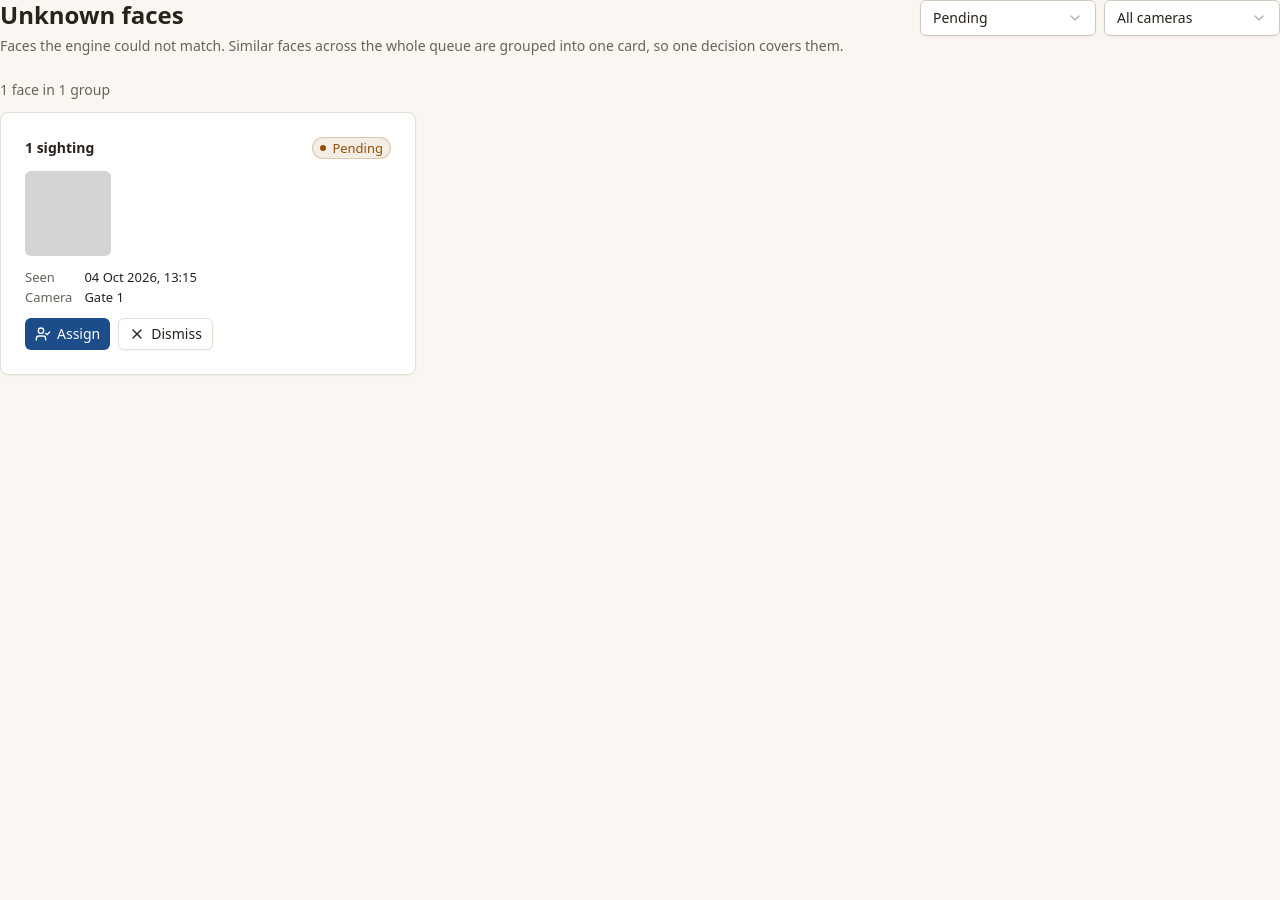
Test: Unknown faces screen (§13 screen 9, FR-27, Q58) › shows a consent error under the gallery option and keeps the dialog open
Click the button "Assign". click: (68, 334)
box: 25,318 -> 110,350
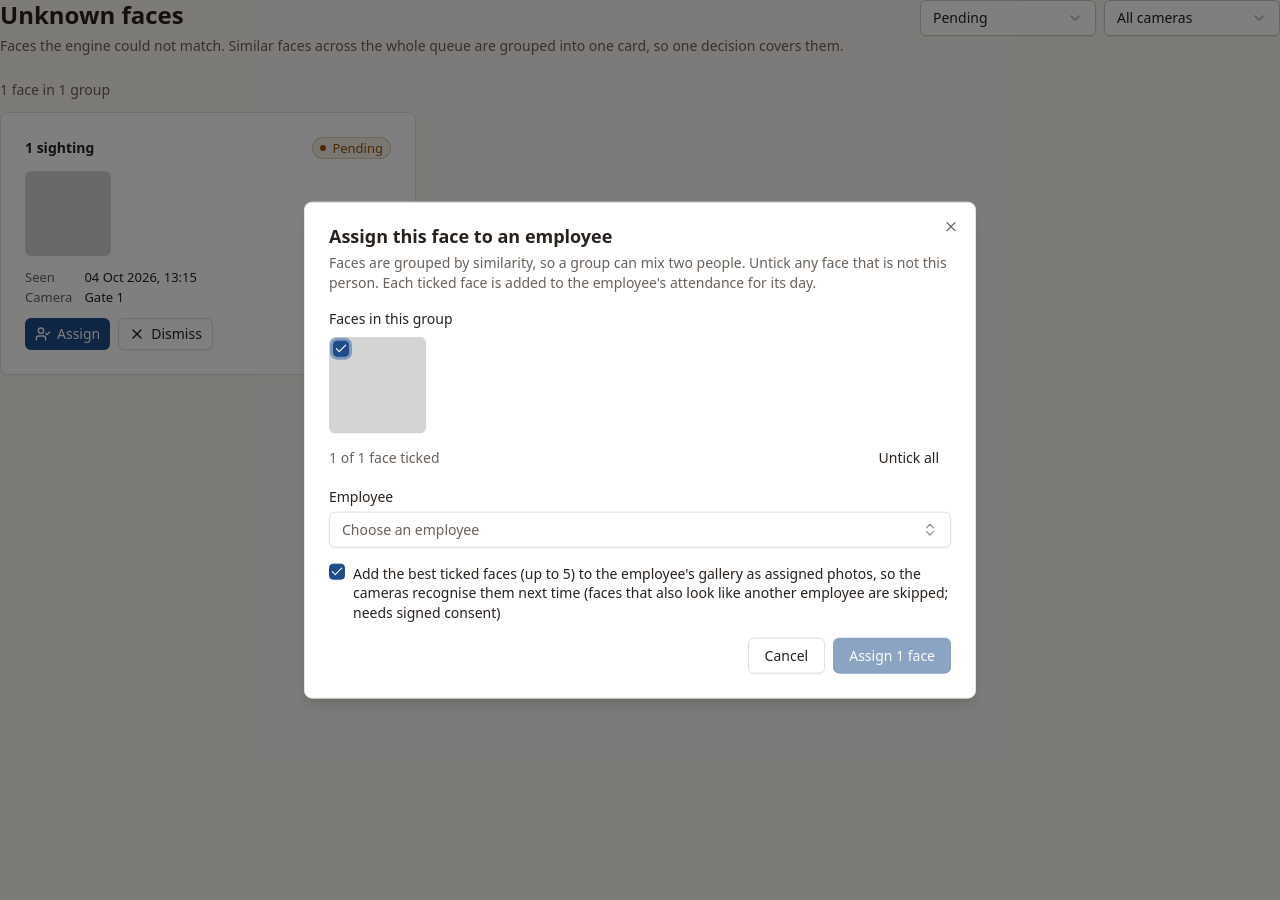
Click the dropdown labelled "employee". click: (411, 529)
box: 329,512 -> 951,548
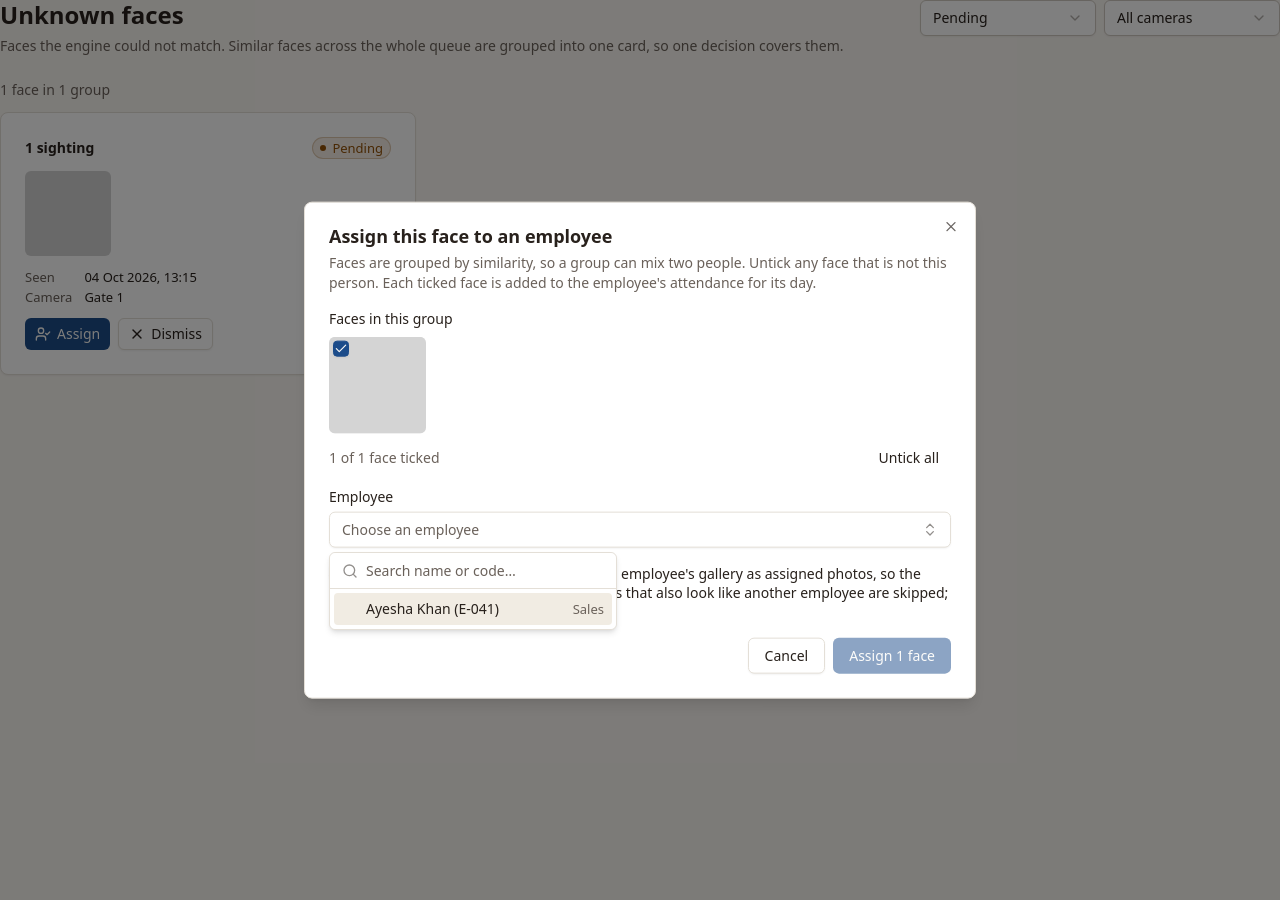
Click the option "Ayesha Khan (E-041) Sales". click: (473, 609)
box: 334,593 -> 612,625
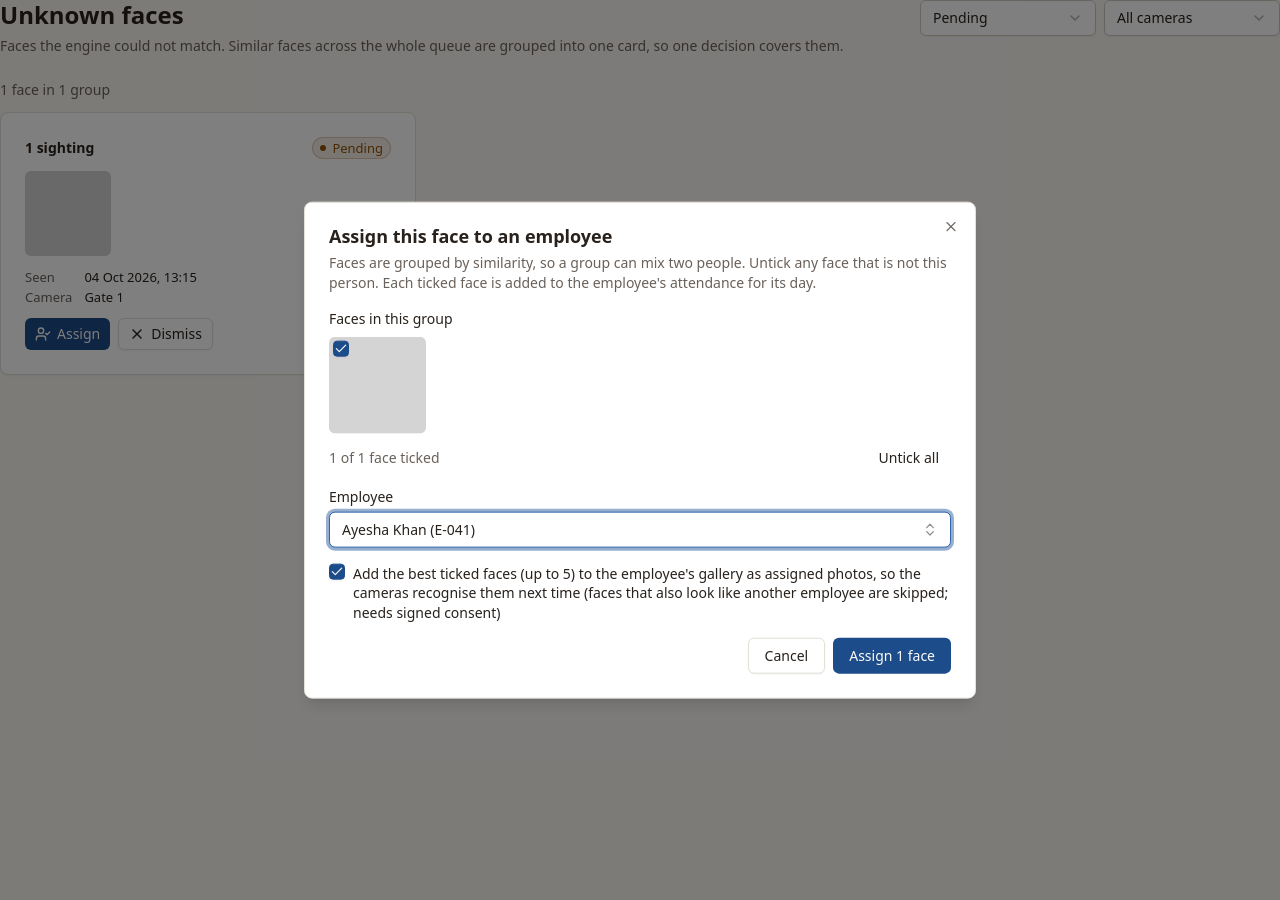
Expected: the checkbox named "gallery as assigned photos" is checked, 329,564 -> 345,580
Click the button "Assign 1 face". click: (892, 655)
box: 833,637 -> 951,673
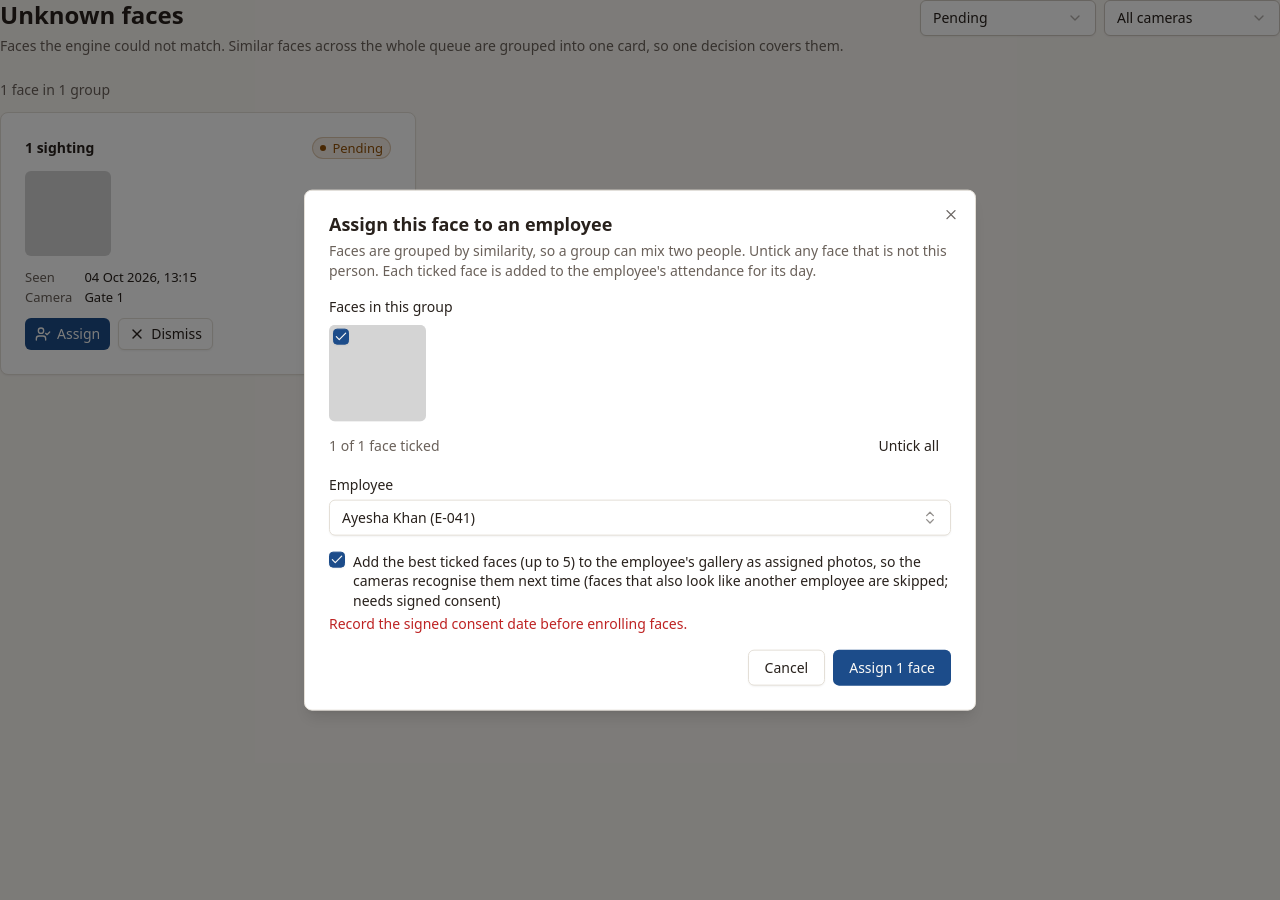
Expected: the dialog is shown, 304,190 -> 976,710
Expected: the message reads "Record the signed consent date before enrolling faces.", 329,613 -> 687,632
